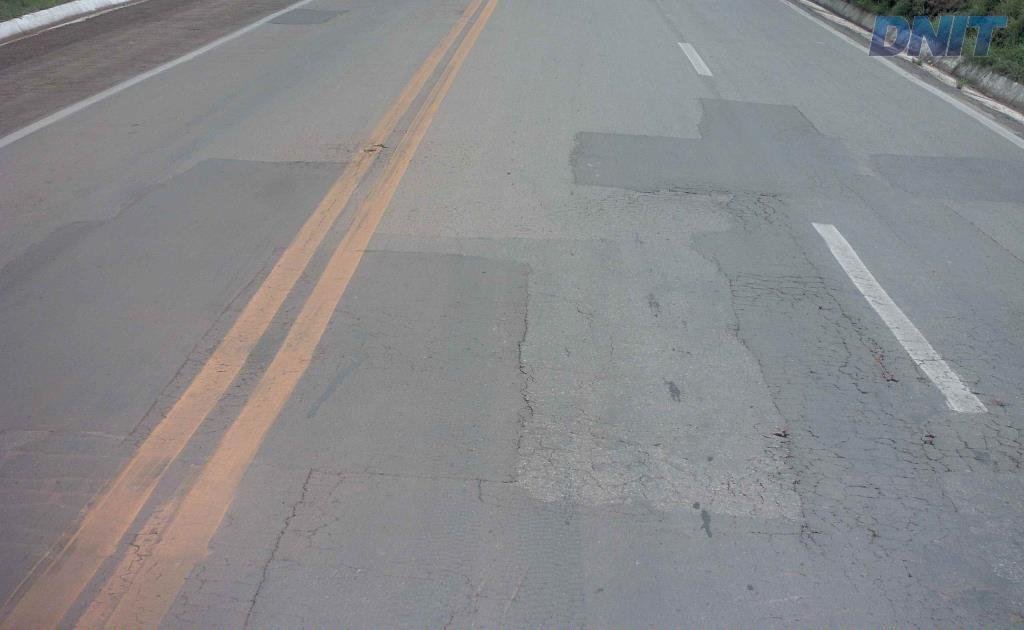crack: (765, 275, 974, 547), (242, 497, 306, 629), (763, 415, 817, 518), (666, 183, 736, 211), (846, 500, 887, 544), (788, 520, 828, 552), (746, 190, 780, 224)
